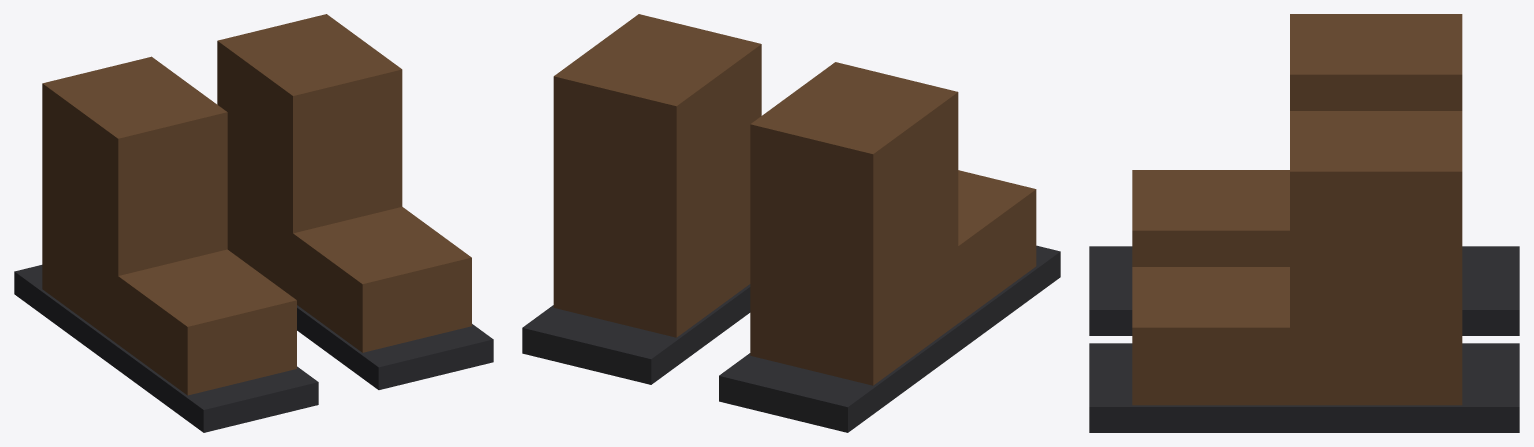
Rendered from GD_BootsPair_01.glb.
The picture shows the model from 3 angles, left to right: view 1: azimuth 30°, elevation 25°; view 2: azimuth 150°, elevation 25°; view 3: azimuth 270°, elevation 25°; orthographic projection. The views are drawn at different scales.
Parts seen in each view (by area): view 1: GD_BootsPair_01; view 2: GD_BootsPair_01; view 3: GD_BootsPair_01.
Boxes of the visible parts, bbox=[...] form: GD_BootsPair_01: bbox=[14, 14, 493, 432]; GD_BootsPair_01: bbox=[522, 14, 1060, 432]; GD_BootsPair_01: bbox=[1089, 14, 1519, 432].
Bounding box in the file's own units: 0.265 × 0.2 × 0.3.
1 material, 1 textured.
